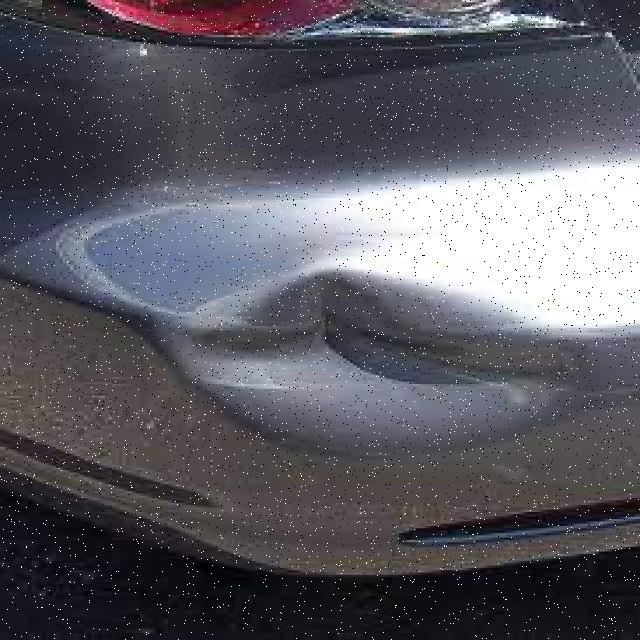rear-bumper-dent: (0, 133, 636, 592)
